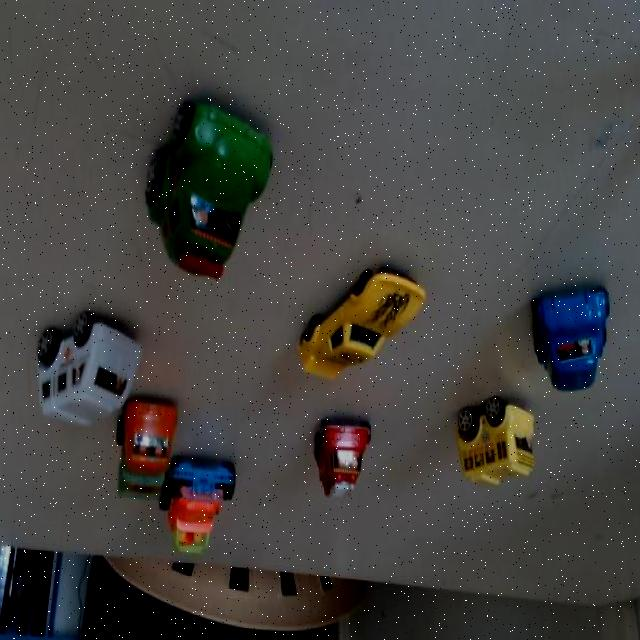car: (134, 109, 272, 274), (31, 297, 148, 442), (294, 264, 424, 384), (165, 457, 249, 565), (534, 288, 612, 390), (448, 391, 529, 484), (113, 392, 178, 507), (302, 405, 372, 507)
